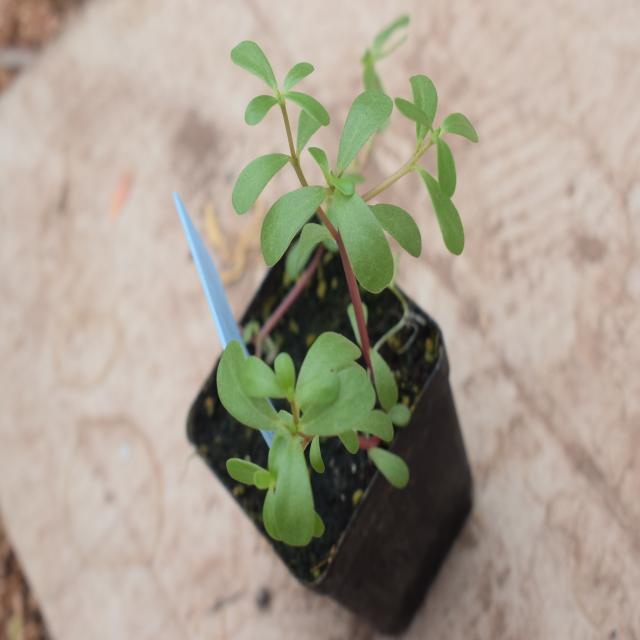purslane: (204, 38, 476, 533)
